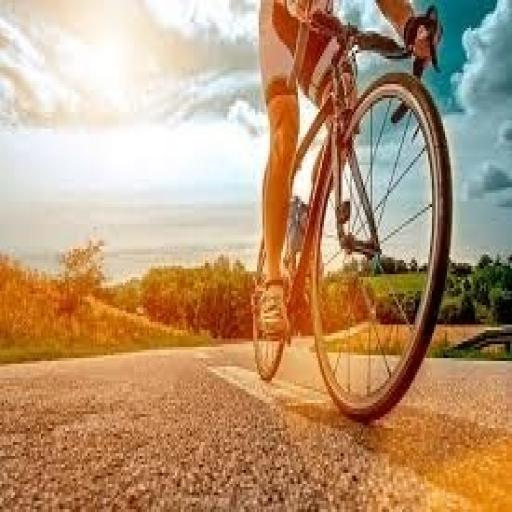cycling: (253, 0, 445, 341)
